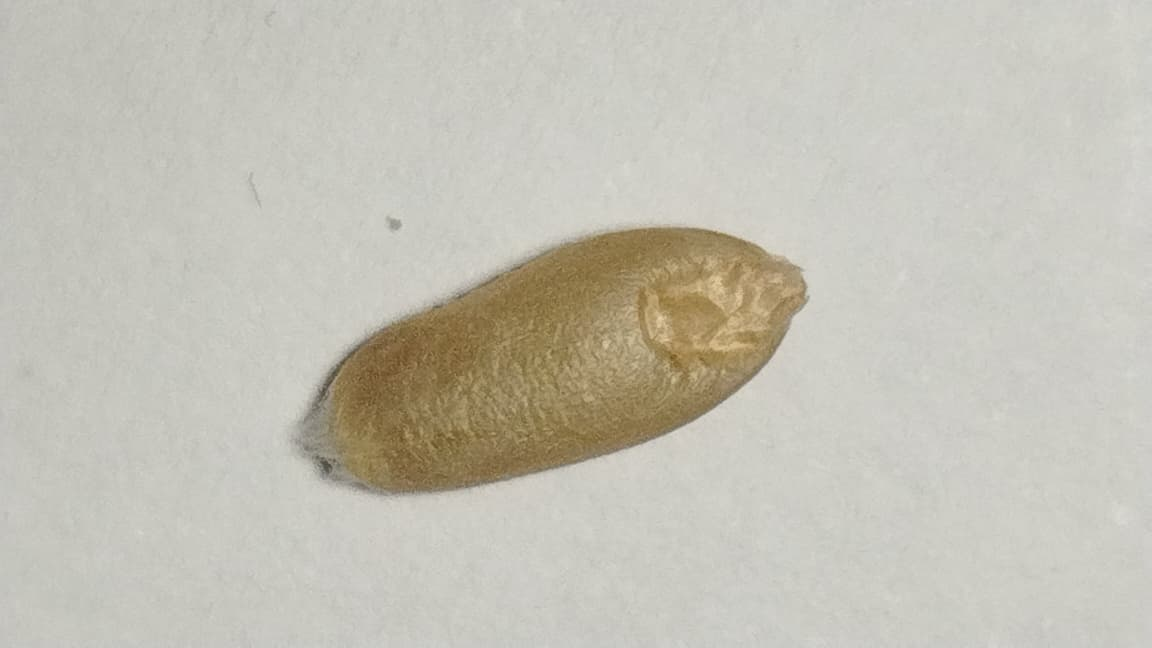healthy: (319, 228, 805, 490)
